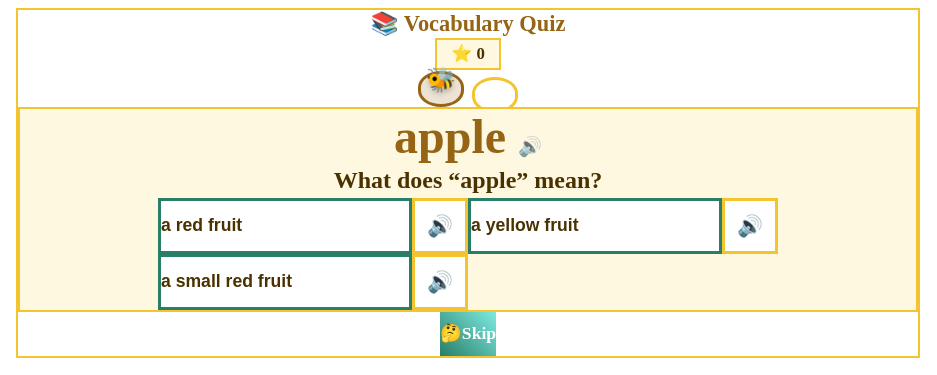
it: QuizMode Component › completes the quiz and shows results
This screenshot has width=937, height=375.
Answer first question
Click the button "a red fruit".
click(285, 226)  # box left=158, top=198, right=412, bottom=254
Wait 2000 ms
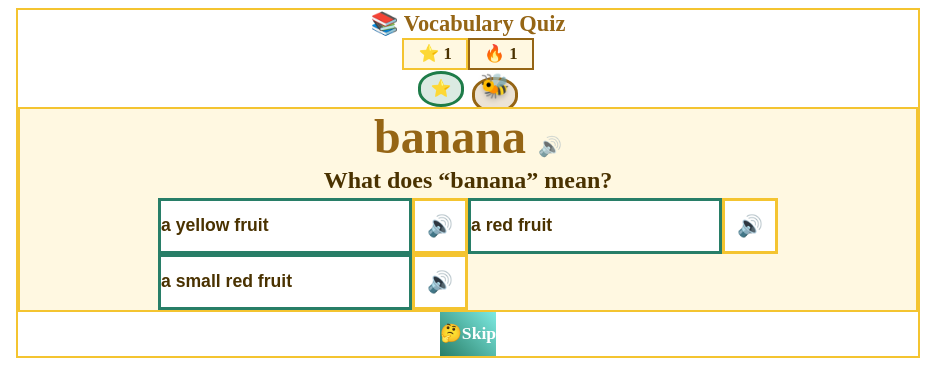
Answer second question
Click the button "a yellow fruit".
click(285, 226)  # box left=158, top=198, right=412, bottom=254
Wait 2000 ms
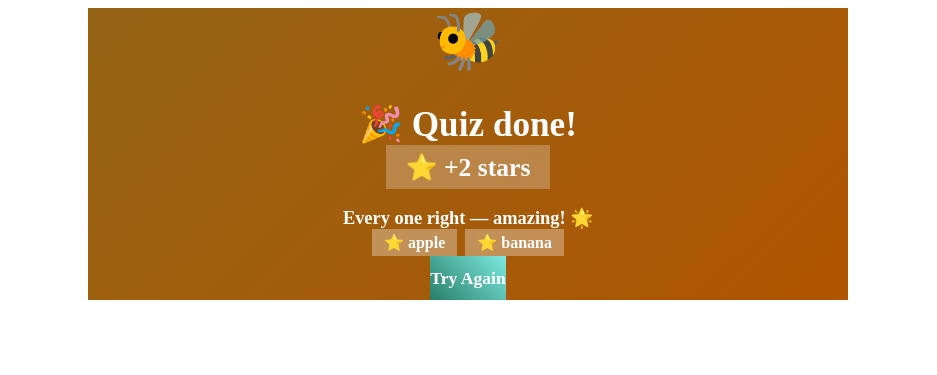
expect the heading "🎉 Quiz done!" is shown: met, box left=359, top=105, right=577, bottom=144
expect the text "⭐ +2 stars" is shown: met, box left=386, top=145, right=550, bottom=189
